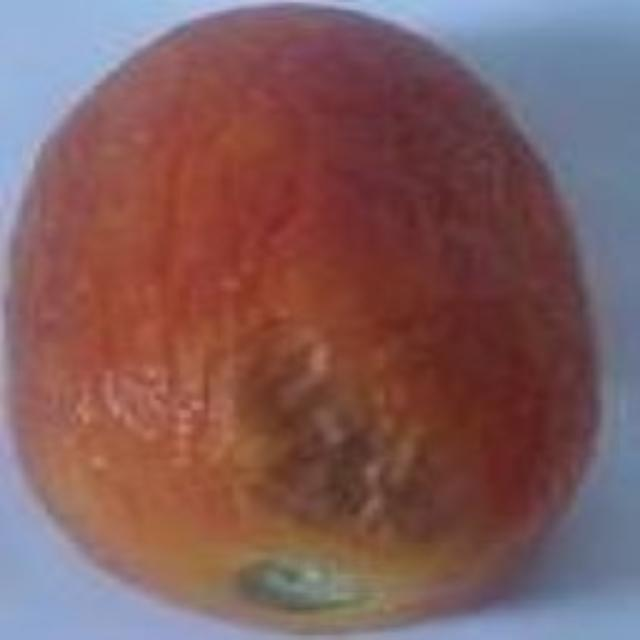defect: (16, 8, 591, 640)
